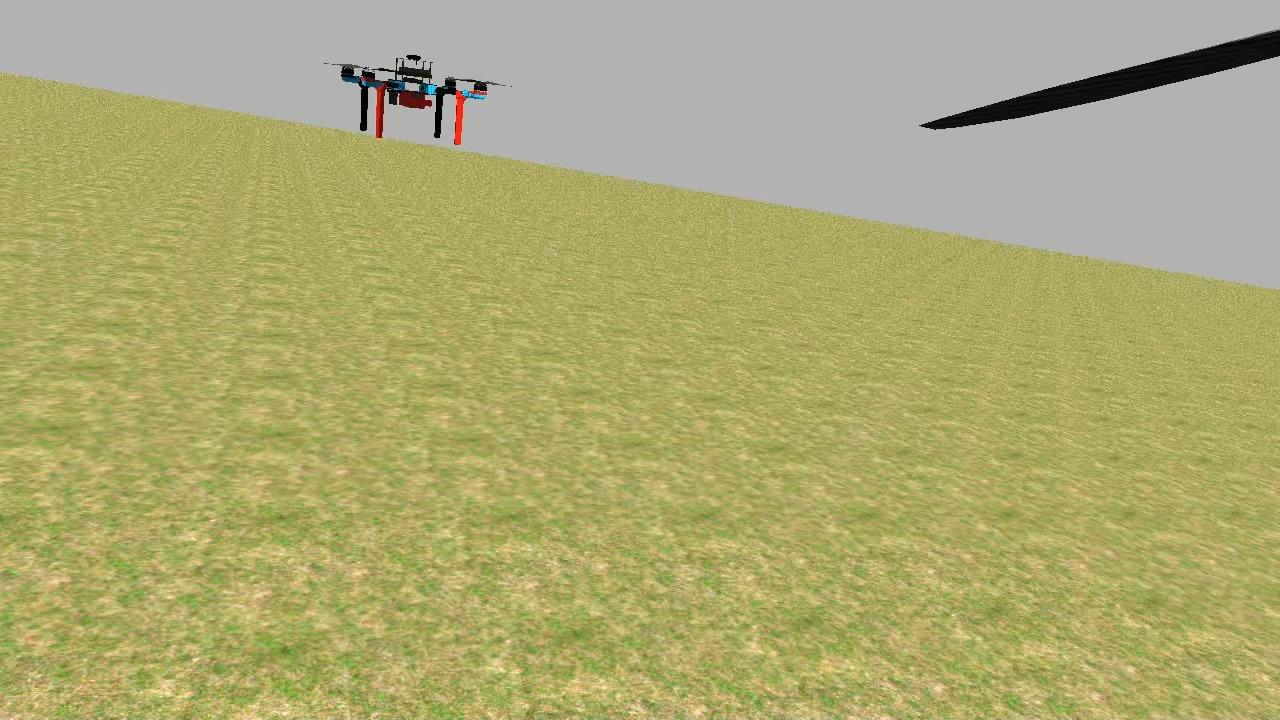UAV: (330, 46, 497, 148)
